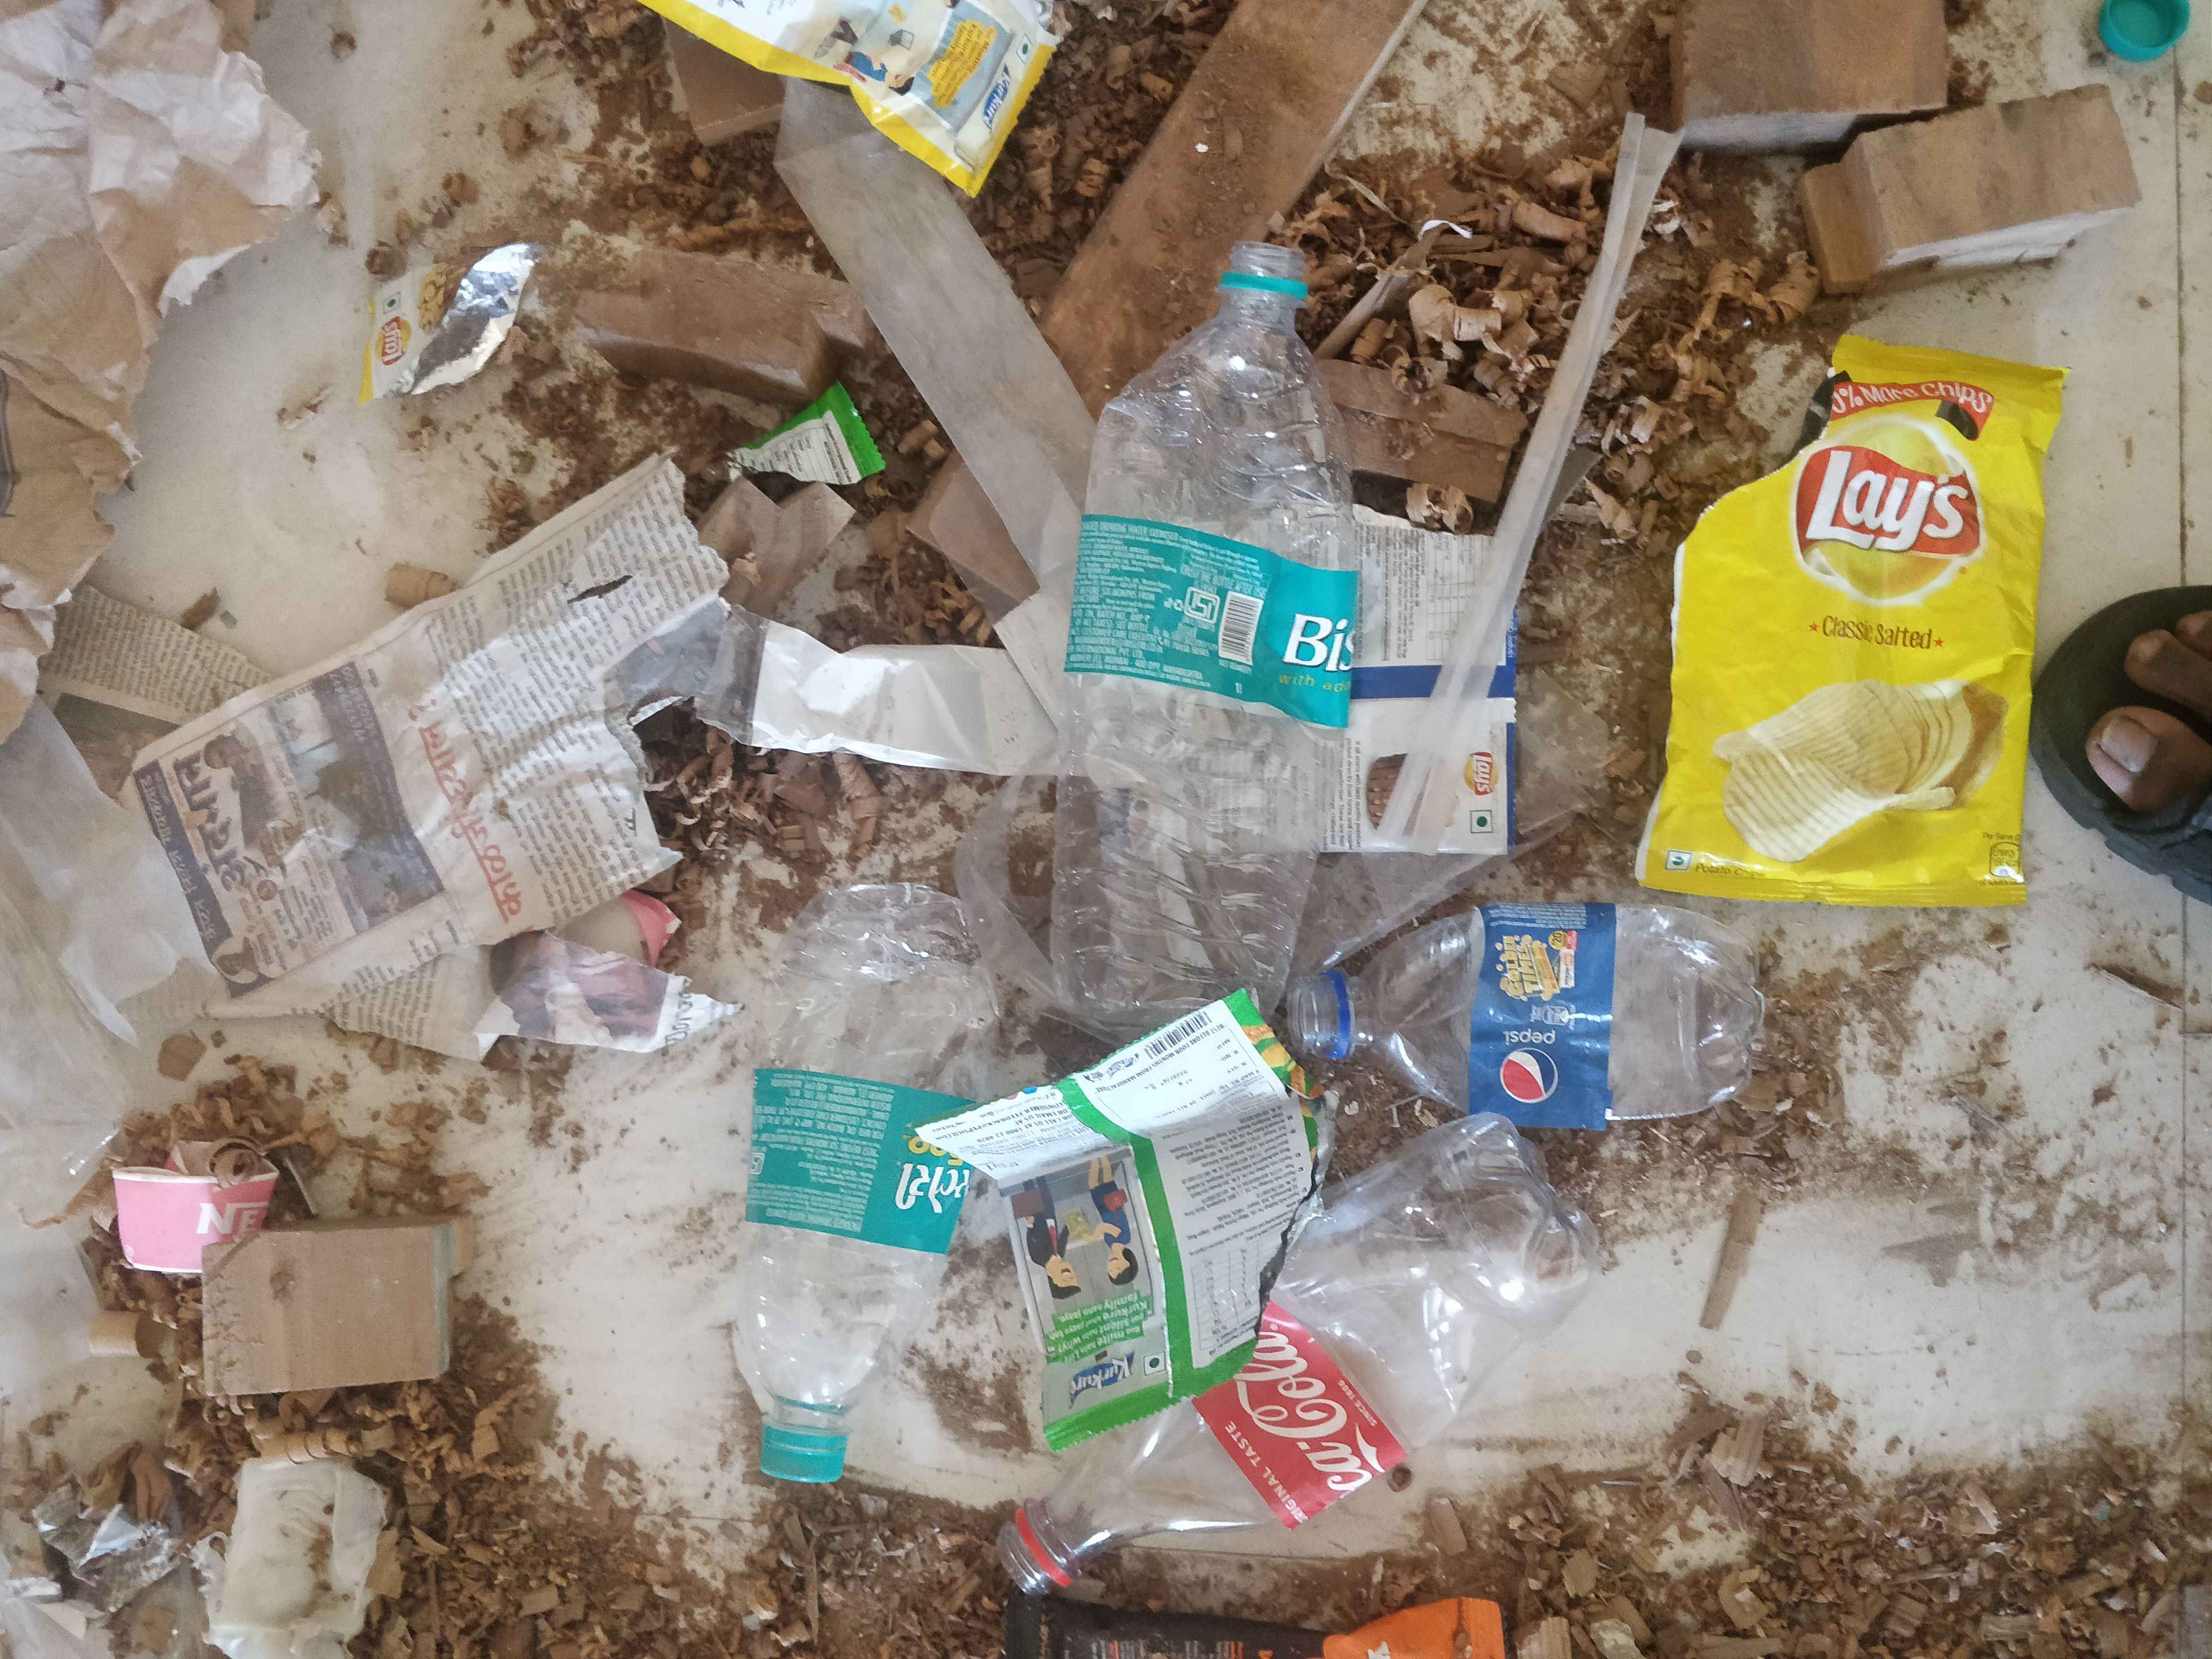Bisleri: (1207, 570, 1367, 697), (867, 1115, 979, 1241)
Coca-Cola: (1224, 1295, 1395, 1497)
Lays: (1757, 401, 2008, 613), (368, 303, 434, 373), (1447, 739, 1512, 798)
kurkure: (1045, 1351, 1157, 1399)
pepsi: (1493, 967, 1597, 1124)
tooyumm: (1364, 1638, 1432, 1659)
